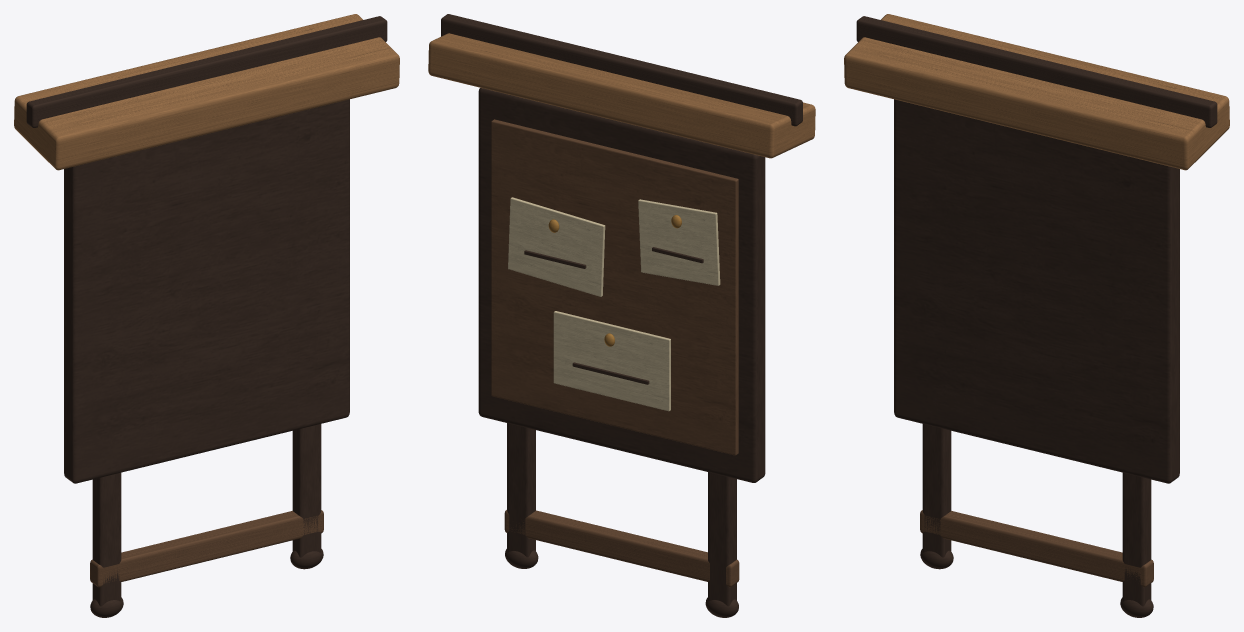
The model's file is notice_board.glb.
The picture shows the model from 3 angles, left to right: view 1: azimuth 30°, elevation 25°; view 2: azimuth 150°, elevation 25°; view 3: azimuth 330°, elevation 25°; orthographic projection.
Parts seen in each view (by area): view 1: notice_board; view 2: notice_board; view 3: notice_board.
Boxes of the visible parts, x1,y1,x2,y2 form: notice_board: (14,14,399,617); notice_board: (428,14,815,617); notice_board: (844,14,1229,617).
Size of the model in its own units: 1.4 by 2 by 0.3.
1 material, 1 textured.
